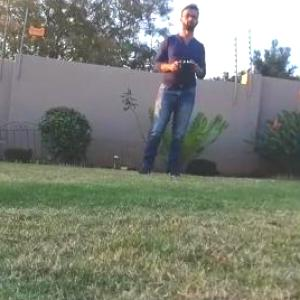follow: (130, 0, 211, 183)
